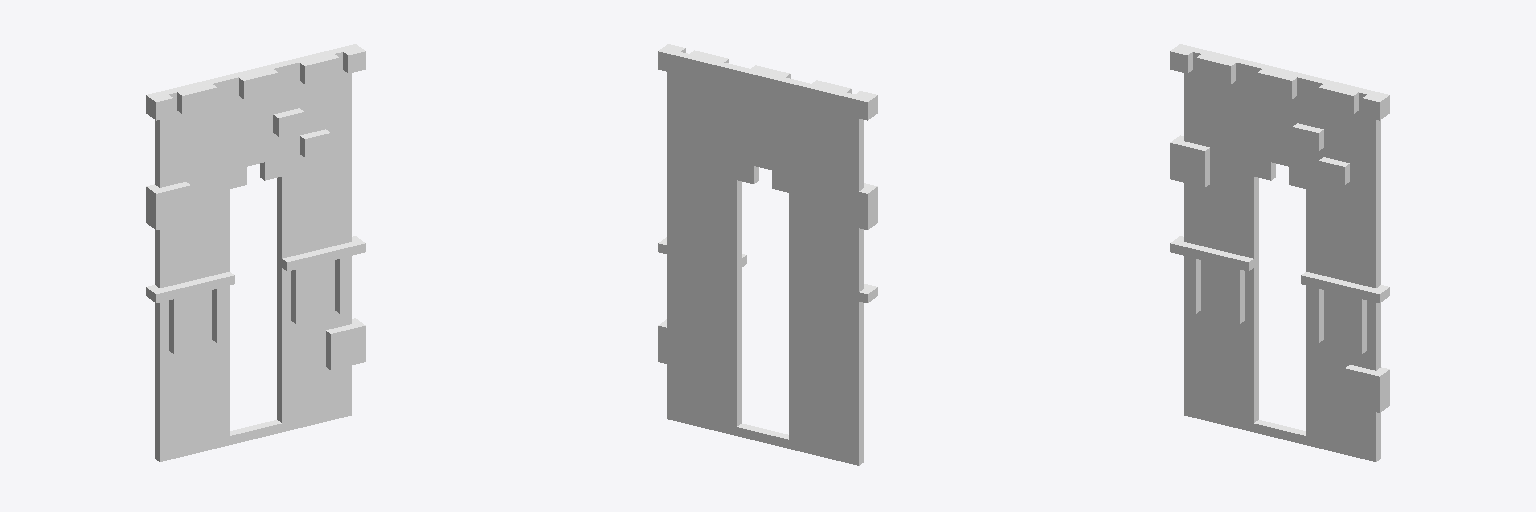
Rendered from TallBuilding02-5.obj.
The picture shows the model from 3 angles: view 1: azimuth 30°, elevation 25°; view 2: azimuth 150°, elevation 25°; view 3: azimuth 330°, elevation 25°; orthographic projection.
Visible parts, largest first — view 1: object 1; view 2: object 1; view 3: object 1.
Boxes of the visible parts, <box> form: object 1: <box>146,44,365,461</box>; object 1: <box>658,44,877,465</box>; object 1: <box>1170,44,1389,461</box>.
Size of the model in its own units: 2.4 by 4 by 0.2.